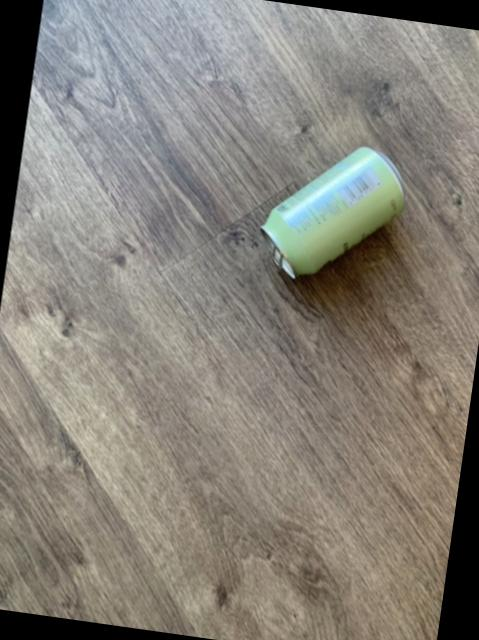metal: (260, 149, 401, 276)
